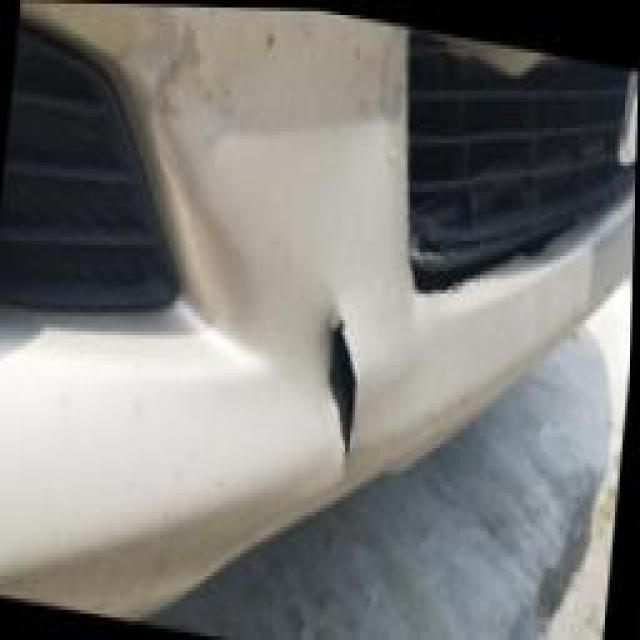Bumper: (108, 4, 639, 522)
